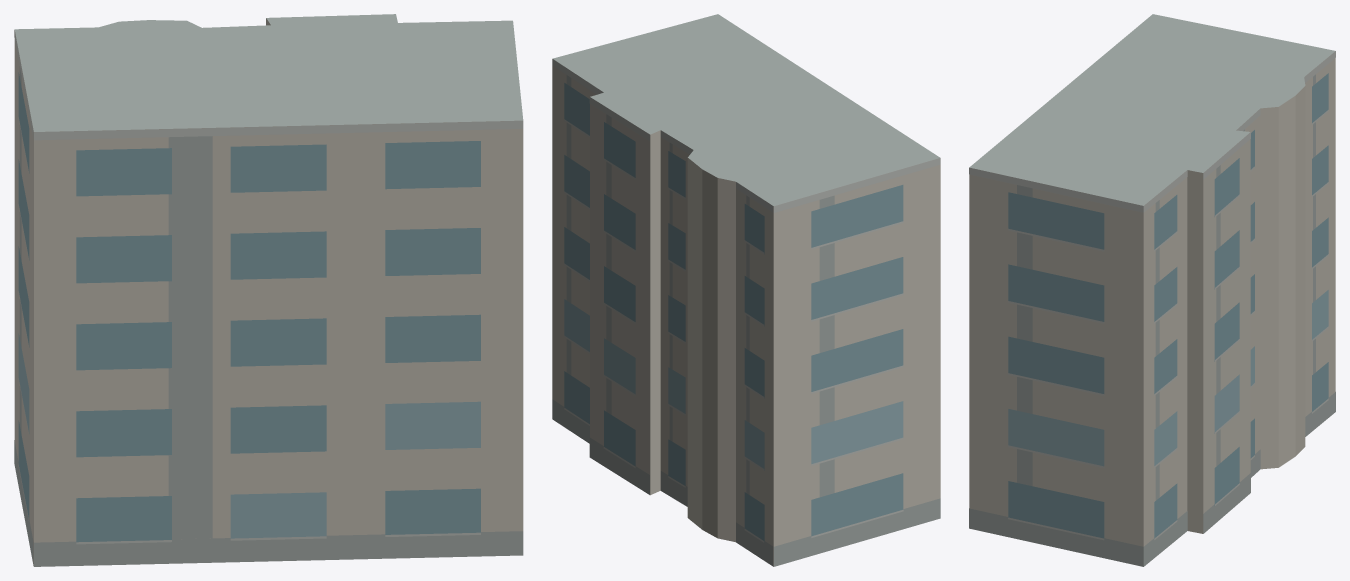
Rendered from survey-upis-32730425.glb.
The picture shows the model from 3 angles, left to right: view 1: azimuth 30°, elevation 25°; view 2: azimuth 150°, elevation 25°; view 3: azimuth 270°, elevation 25°; orthographic projection. The views are drawn at different scales.
Parts seen in each view (by area): view 1: survey-upis-32730425.tmp; view 2: survey-upis-32730425.tmp; view 3: survey-upis-32730425.tmp.
Boxes of the visible parts, bbox=[...] form: survey-upis-32730425.tmp: bbox=[14, 14, 523, 566]; survey-upis-32730425.tmp: bbox=[552, 14, 940, 566]; survey-upis-32730425.tmp: bbox=[969, 14, 1335, 566].
Size of the model in its own units: 14.6 by 12.8 by 11.79.
